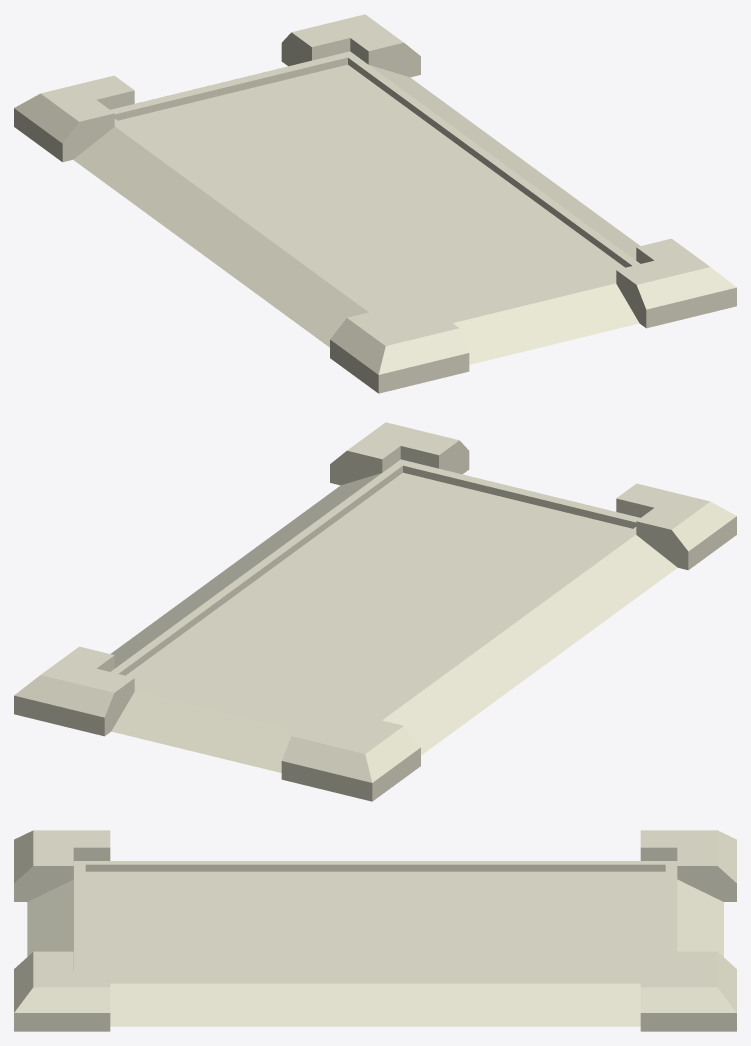
The model's file is Ray.fbx.
The picture shows the model from 3 angles, top to bottom: view 1: azimuth 30°, elevation 25°; view 2: azimuth 150°, elevation 25°; view 3: azimuth 270°, elevation 25°; orthographic projection.
Visible parts, largest first — view 1: Cube.001; view 2: Cube.001; view 3: Cube.001.
Part boxes in pixels (left/top/right/bottom): Cube.001: left=14, top=14, right=736, bottom=393; Cube.001: left=14, top=422, right=736, bottom=801; Cube.001: left=14, top=830, right=736, bottom=1031.
Size of the model in its own units: 1372 by 133 by 2417.
